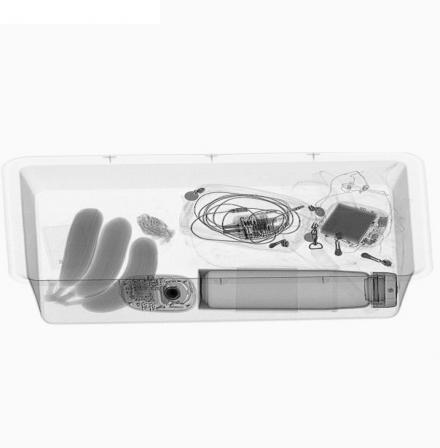Powerbank: (319, 202, 387, 247)
